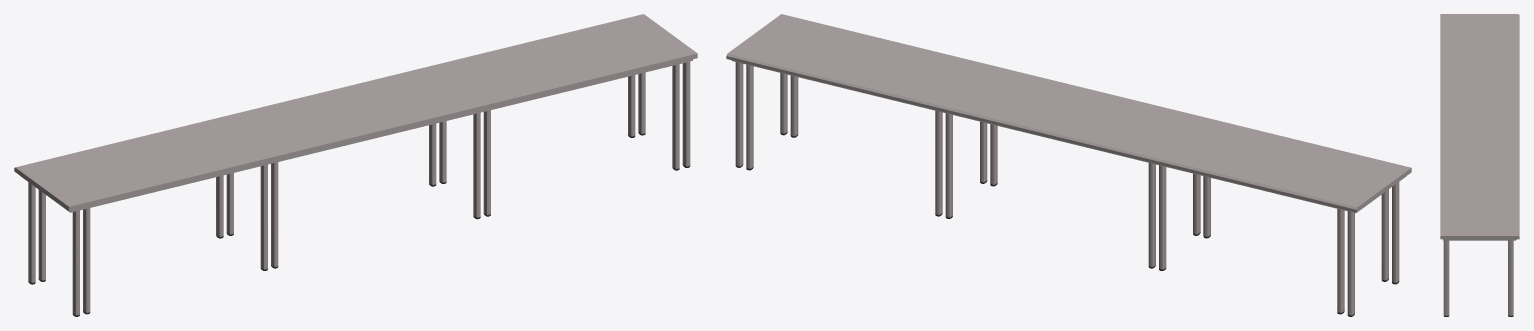
The model's file is mesa2.fbx.
The picture shows the model from 3 angles, left to right: view 1: azimuth 30°, elevation 25°; view 2: azimuth 150°, elevation 25°; view 3: azimuth 270°, elevation 25°; orthographic projection. The views are drawn at different scales.
Visible parts, largest first — view 1: Cube.021; view 2: Cube.021; view 3: Cube.021.
Boxes of the visible parts, <box> form: Cube.021: <box>14,14,697,316</box>; Cube.021: <box>726,14,1411,316</box>; Cube.021: <box>1440,14,1519,316</box>.
Bounding box in the file's own units: 433 × 75.66 × 65.53.
1 material, 1 textured.
